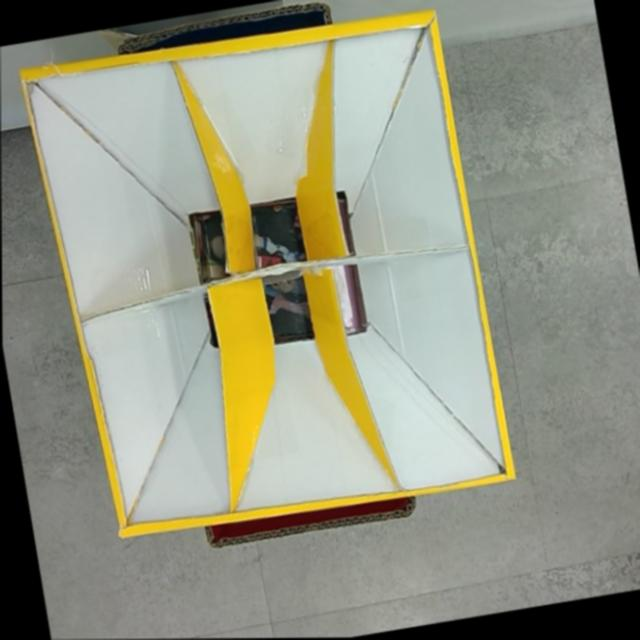box: (15, 0, 519, 570)
